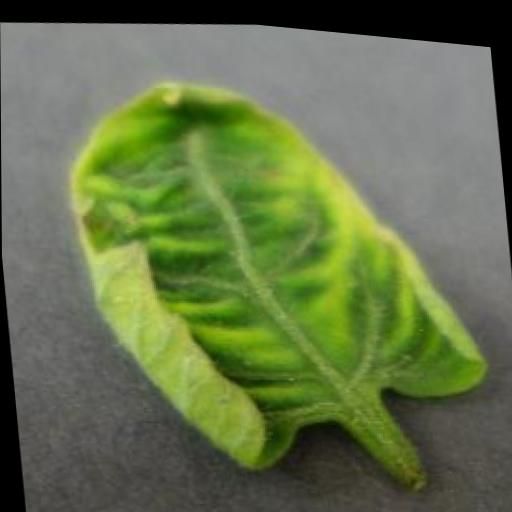Yellow Leaf Curl Virus: (57, 38, 498, 499)
